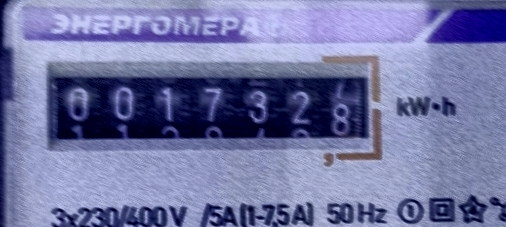0: (64, 82, 91, 122), (112, 82, 135, 121)
1: (157, 82, 176, 122)
2: (288, 87, 311, 125)
3: (247, 87, 269, 123)
7: (201, 83, 224, 122)
8: (330, 99, 349, 135)
screen: (35, 49, 391, 174)
